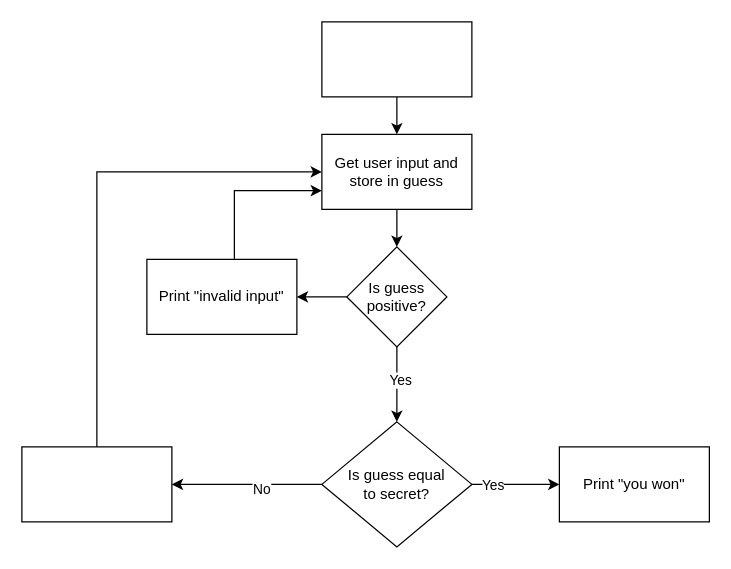
Image size: 731x569. Some labels were removed from this diagram. The centre of each missing label's shape, as x and y in pixels:
Generate random number between 1 and 20 and call it secret: point 396,59
Print "try again": point 96,484
